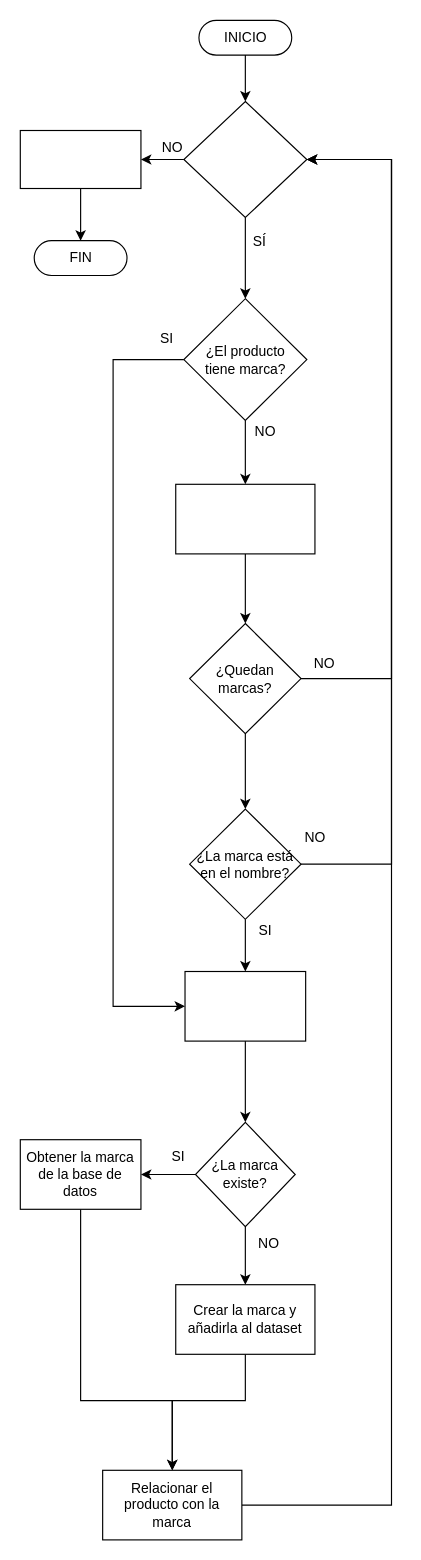
The diagram is 421 pixels wide and 1560 high, and some of its shapes have lost their labels. The centre of each missing label's shape, as x and y in pixels:
Guardar lista de productos: pixel 80 158
Obtener todas las marcas del dataset: pixel 245 518
Parsear la marca: pixel 245 1005
¿Quedan productos?: pixel 245 158
